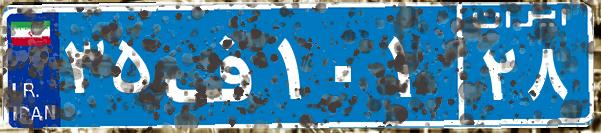0: (330, 28, 385, 110)
1: (385, 28, 445, 110), (273, 28, 330, 110)
2: (475, 38, 525, 113)
3: (57, 26, 110, 107)
5: (110, 28, 158, 105)
8: (525, 38, 570, 115)
ف: (158, 15, 273, 115)
